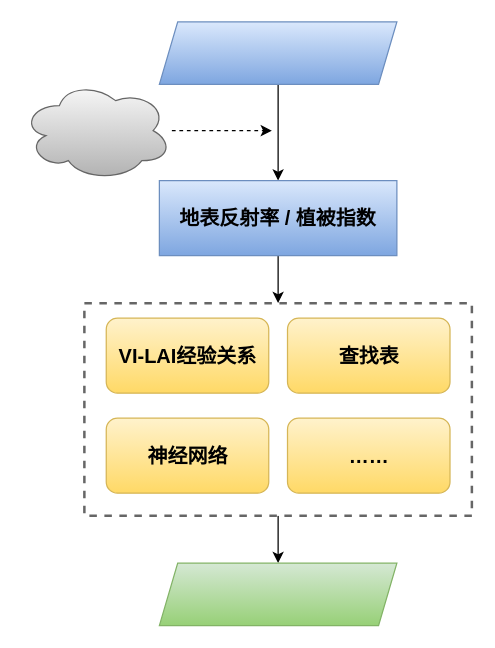
Image size: 495x648. Some labels were removed from this diagram. The centre of each missing label's shape, as x and y in pixels:
"叶面积指数" goes at point 277,594.
"大气校正" goes at point 96,130.
"遥感观测" goes at point 277,52.
